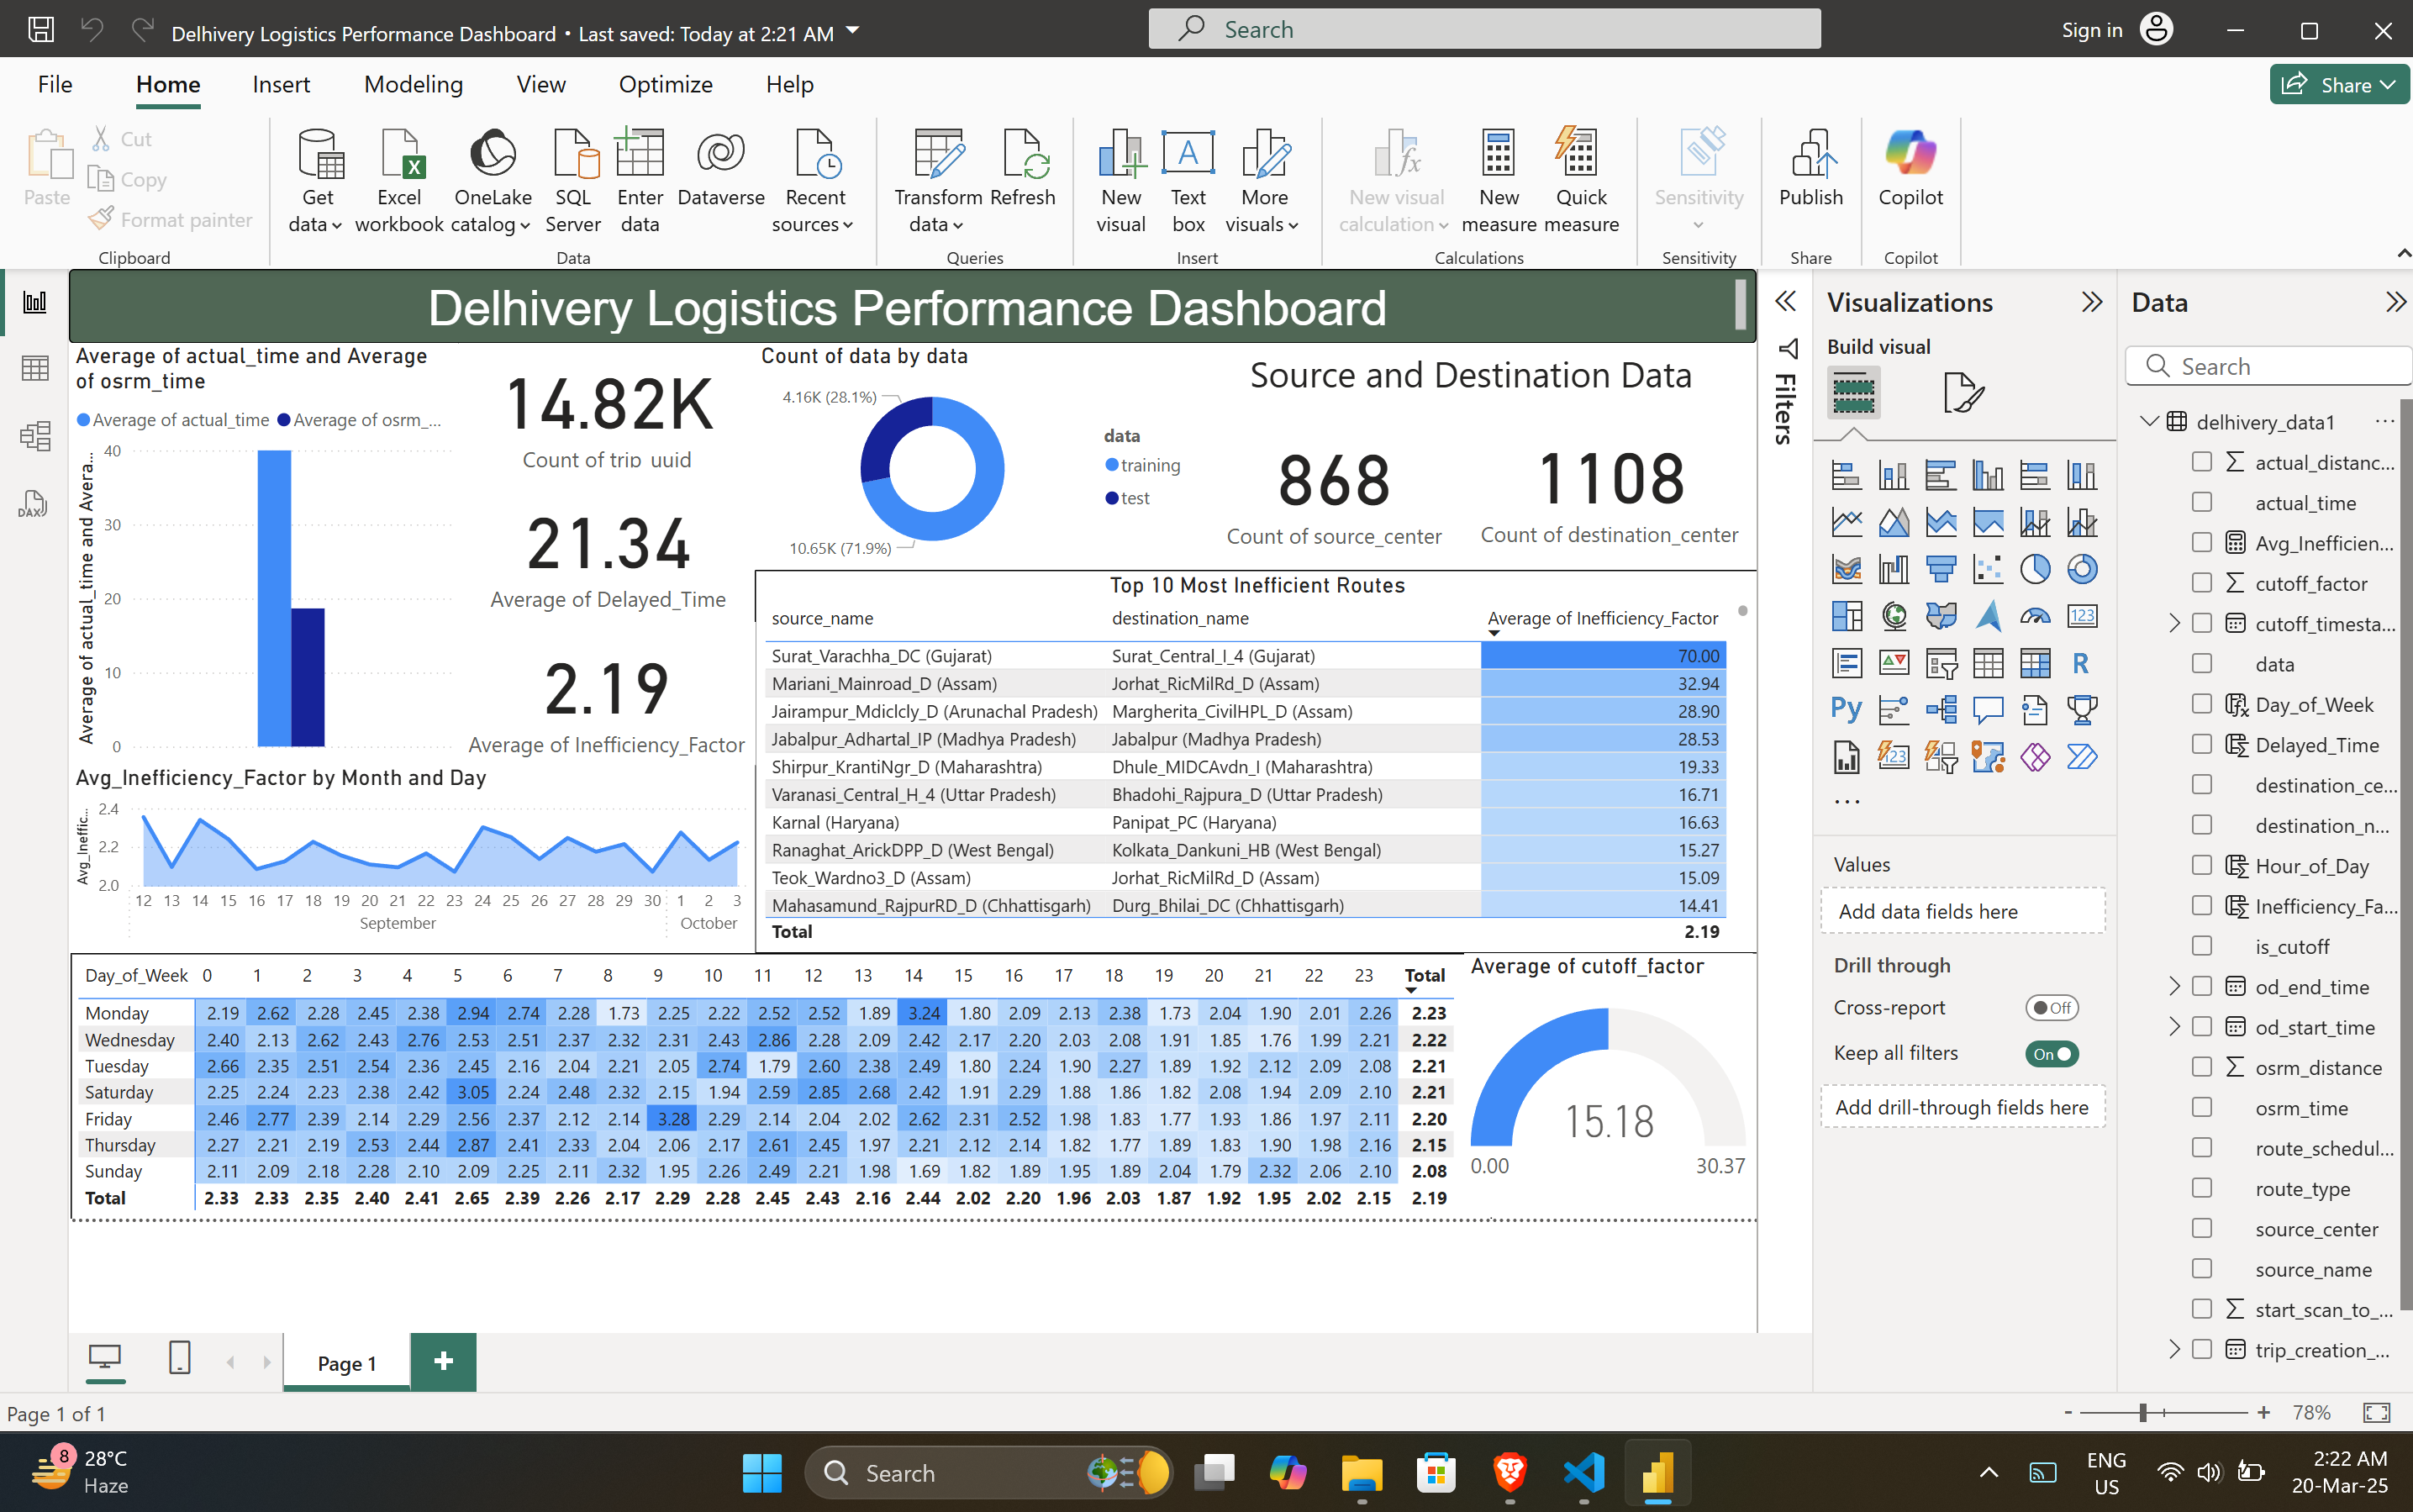

Layout of this report page (visuals, bound fields, positions):
{"tool":"powerbi","page":{"name":"Page 1","canvas":[1280,720],"ordinal":0},"visuals":[{"type":"textbox","box":[0,0,1280,56.7],"z":0},{"type":"clusteredColumnChart","fields":{"Y":["Avg(delhivery_data1.actual_time)","Avg(delhivery_data1.osrm_time)"]},"box":[0,56.7,295.5,320],"z":1000},{"type":"card","fields":{"Values":["Count(delhivery_data1.source_center)"]},"box":[857.4,110.2,203.6,108.7],"z":2000},{"type":"card","fields":{"Values":["Count(delhivery_data1.destination_center)"]},"box":[1061.1,110.2,215.9,105.6],"z":3000},{"type":"textbox","box":[0,544,348,150],"z":4000},{"type":"card","fields":{"Values":["Count(delhivery_data1.trip_uuid)"]},"box":[295.5,56.7,225.1,99.5],"z":5000},{"type":"donutChart","fields":{"Category":["delhivery_data1.data"],"Y":["CountNonNull(delhivery_data1.data)"]},"box":[520.2,56.1,337.8,172.1],"z":6000},{"type":"textbox","box":[840.6,56.7,447.1,53.6],"z":7000},{"type":"card","fields":{"Values":["Avg(delhivery_data1.Delayed_Duration)"]},"box":[295.5,156.2,226.6,111.8],"z":8000},{"type":"tableEx","title":"Top 10 Most Inefficient Routes","fields":{"Values":["delhivery_data1.source_name","delhivery_data1.destination_name","Avg(delhivery_data1.Inefficiency_Factor)"]},"box":[520.6,228.1,761,290.9],"z":9000},{"type":"pivotTable","fields":{"Rows":["delhivery_data1.Day_of_Week"],"Columns":["delhivery_data1.Hour_of_Day"],"Values":["Avg(delhivery_data1.Inefficiency_Factor)"]},"box":[1.5,519,1077.9,206.7],"z":10000},{"type":"card","title":"Avg. Inefficiency Factor","fields":{"Values":["Avg(delhivery_data1.Inefficiency_Factor)"]},"box":[294,267.9,226.6,108.7],"z":11000},{"type":"areaChart","fields":{"Y":["delhivery_data1.Avg_Inefficiency_Factor"],"Category":["delhivery_data1.trip_creation_date.Variation.Date Hierarchy.Month","delhivery_data1.trip_creation_date.Variation.Date Hierarchy.Day"]},"box":[0,376.7,520.6,142.4],"z":12000},{"type":"gauge","fields":{"Y":["Avg(delhivery_data1.cutoff_factor)"]},"box":[1058,519,218.9,200.6],"z":12001}]}

Visuals, with their boxes on the page's 1280x720 design canvas (x1, y1, x2, y2). These are canvas units, not pixel positions in the 2413x1512 screenshot, which may show the page scaled, cropped or inside an application window:
textbox: [left=0, top=0, right=1280, bottom=57]
clusteredColumnChart - Avg(delhivery_data1.actual_time) x Avg(delhivery_data1.osrm_time): [left=0, top=57, right=296, bottom=377]
card - Count(delhivery_data1.source_center): [left=857, top=110, right=1061, bottom=219]
card - Count(delhivery_data1.destination_center): [left=1061, top=110, right=1277, bottom=216]
textbox: [left=0, top=544, right=348, bottom=694]
card - Count(delhivery_data1.trip_uuid): [left=296, top=57, right=521, bottom=156]
donutChart - delhivery_data1.data x CountNonNull(delhivery_data1.data): [left=520, top=56, right=858, bottom=228]
textbox: [left=841, top=57, right=1288, bottom=110]
card - Avg(delhivery_data1.Delayed_Duration): [left=296, top=156, right=522, bottom=268]
"Top 10 Most Inefficient Routes" tableEx: [left=521, top=228, right=1282, bottom=519]
pivotTable - delhivery_data1.Day_of_Week x delhivery_data1.Hour_of_Day: [left=2, top=519, right=1079, bottom=726]
"Avg. Inefficiency Factor" card: [left=294, top=268, right=521, bottom=377]
areaChart - delhivery_data1.Avg_Inefficiency_Factor x delhivery_data1.trip_creation_date.Variation.Date Hierarchy.Month: [left=0, top=377, right=521, bottom=519]
gauge - Avg(delhivery_data1.cutoff_factor): [left=1058, top=519, right=1277, bottom=720]
